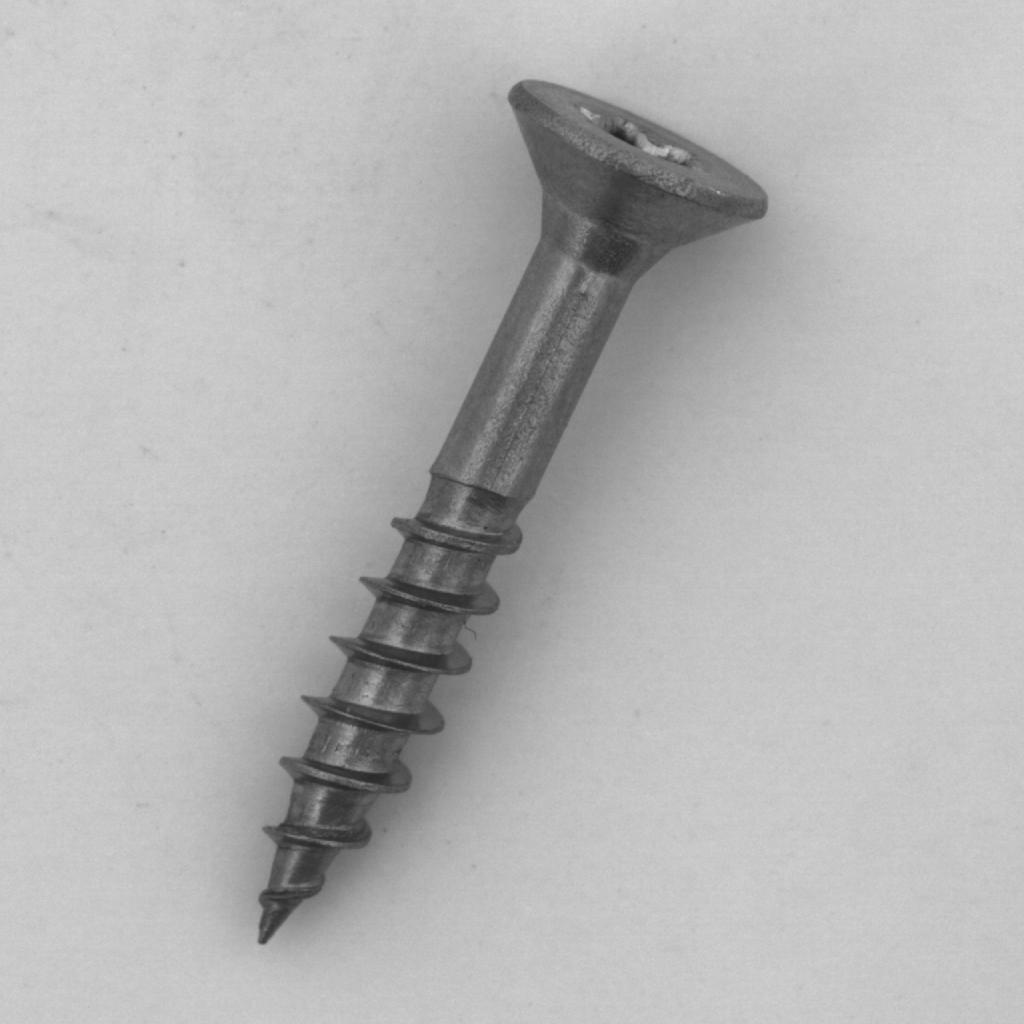good: (237, 62, 794, 966)
